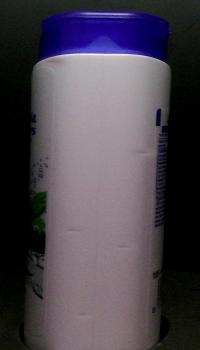dent_marginal: (54, 221, 97, 242), (68, 304, 101, 328), (107, 239, 141, 254), (40, 56, 70, 72), (127, 146, 156, 160)
